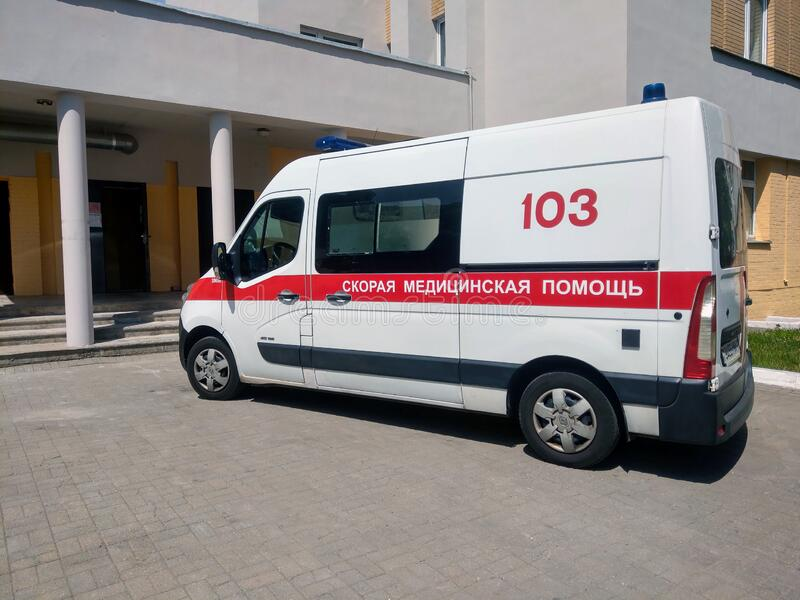special: (177, 80, 753, 474)
